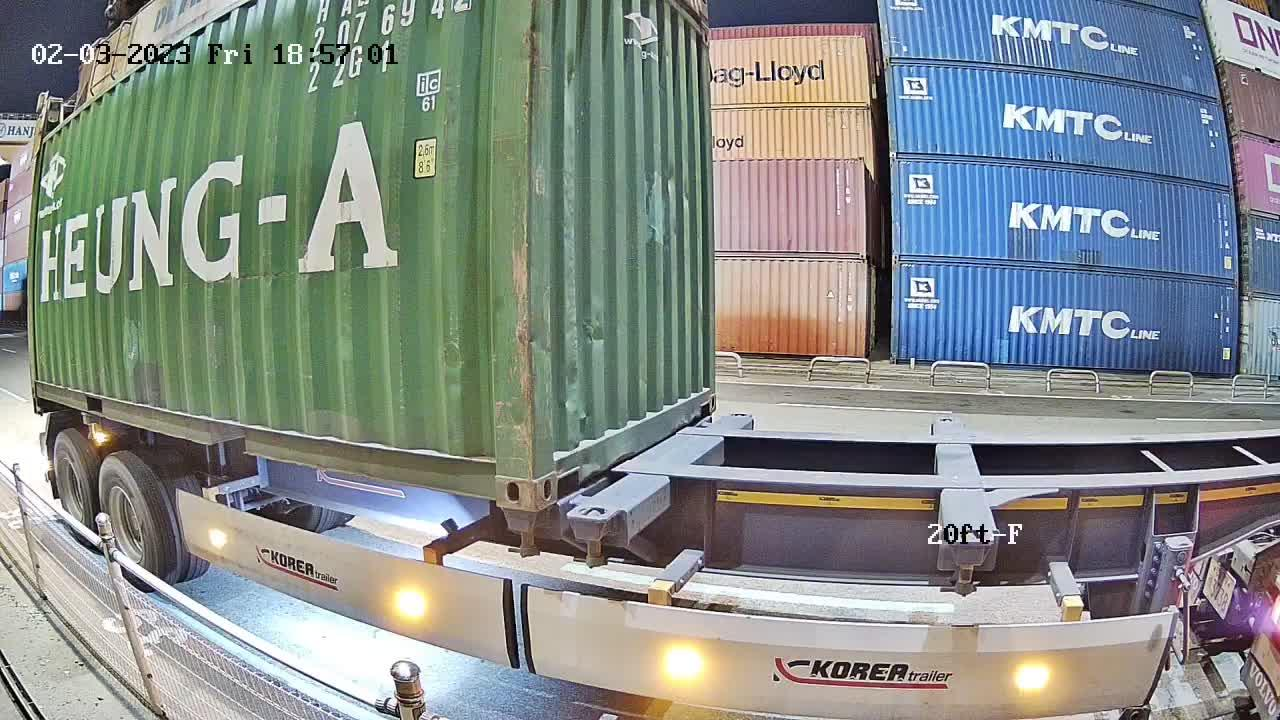Chassis: (566, 411, 753, 523)
Cone: (570, 507, 621, 571), (499, 507, 541, 558)
Hole_L: (531, 425, 583, 511)
Hole_R: (468, 438, 531, 512)
Tire: (101, 454, 155, 582), (53, 435, 93, 540)
